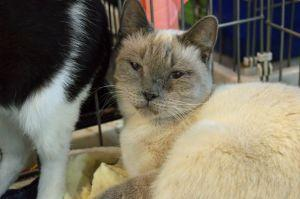siamese: (102, 1, 226, 129)
